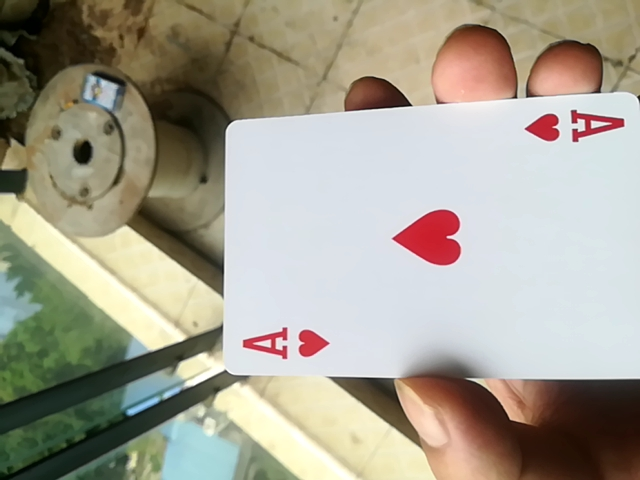hx a: (220, 89, 639, 389)
